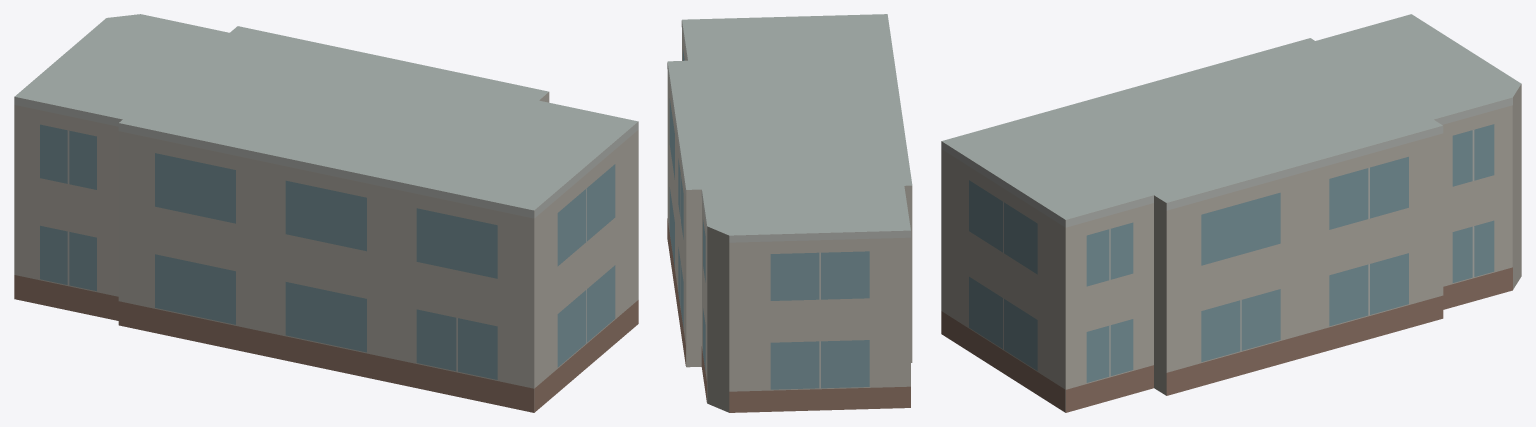
File: survey-upis-32680080.glb
3 views of the same model, side by side, from view 1: azimuth 30°, elevation 25°; view 2: azimuth 150°, elevation 25°; view 3: azimuth 270°, elevation 25° (orthographic). The views are drawn at different scales.
Parts seen in each view (by area): view 1: survey-upis-32680080.tmp; view 2: survey-upis-32680080.tmp; view 3: survey-upis-32680080.tmp.
Part boxes in pixels (<box>): survey-upis-32680080.tmp: <box>14,14,638,412</box>; survey-upis-32680080.tmp: <box>667,14,912,412</box>; survey-upis-32680080.tmp: <box>941,14,1521,412</box>.
Size of the model in its own units: 13.98 by 6.1 by 16.64.
